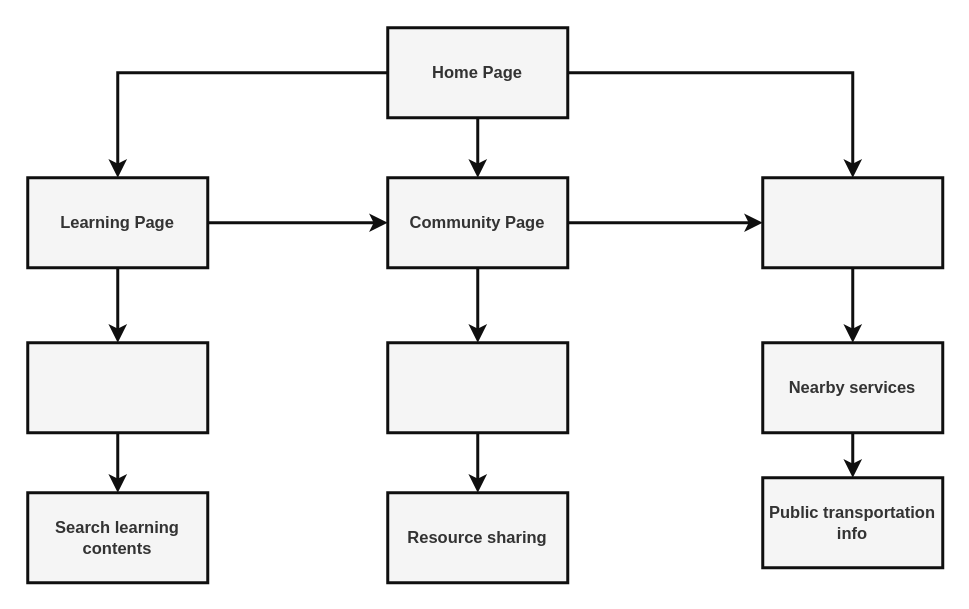
This 969x609 diagram has some shape labels left out. The centre of each missing label's shape, as x and y in pixels:
"Forums/ Discussion boards" goes at point (477, 387).
"Location Page" goes at point (852, 222).
"Multimedia Contents" goes at point (117, 387).
